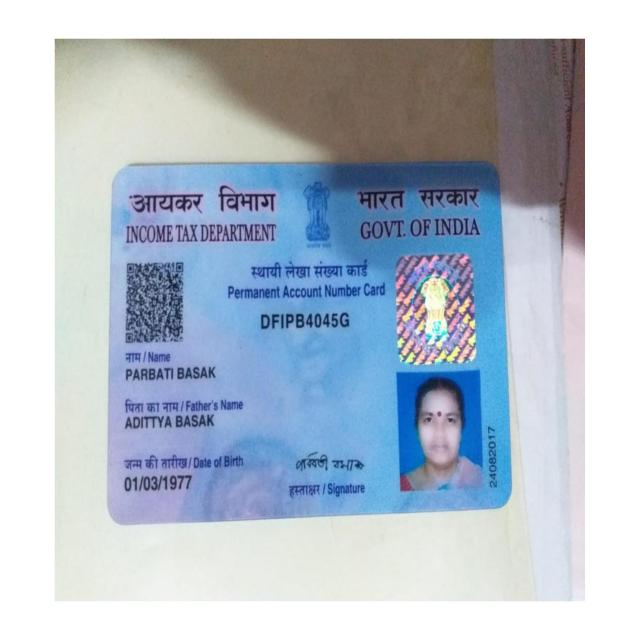pan_card: (114, 164, 507, 524)
